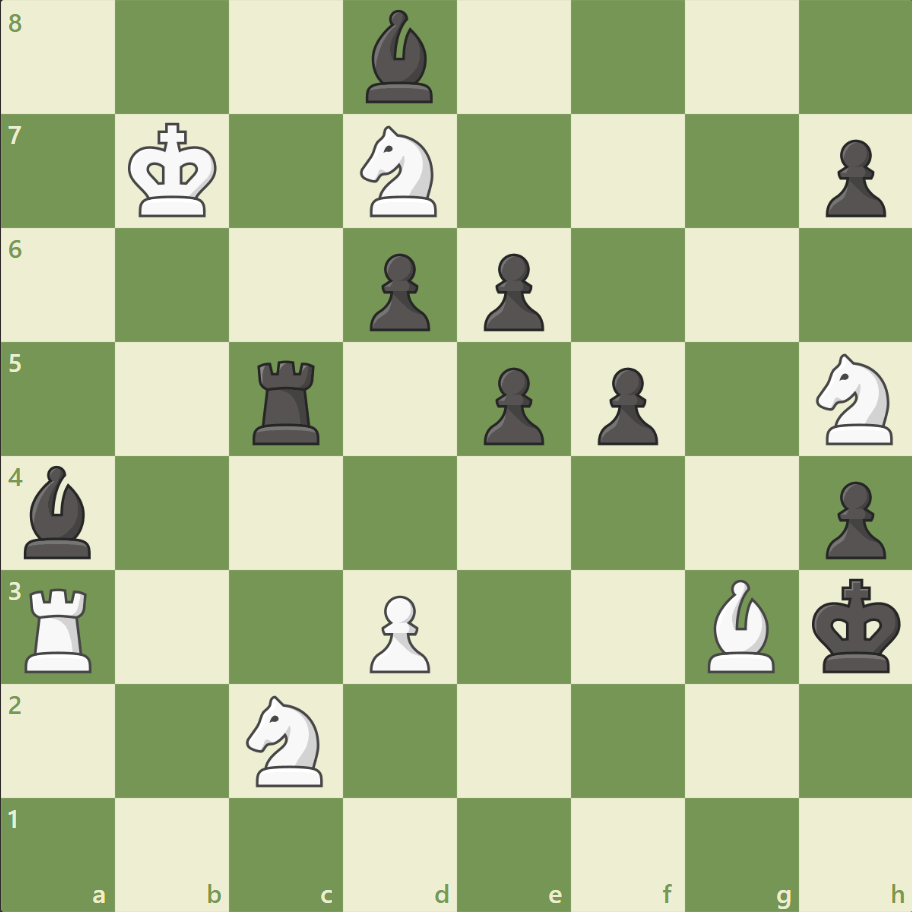B: (698, 574, 782, 676)
K: (124, 117, 224, 225)
N: (351, 121, 449, 223), (238, 688, 335, 791), (806, 348, 903, 450)
P: (361, 586, 435, 677)
R: (19, 579, 102, 676)
b: (358, 6, 442, 109), (17, 460, 101, 563)
k: (806, 571, 906, 679)
p: (474, 246, 549, 337), (474, 359, 549, 450), (815, 132, 889, 223), (361, 246, 435, 337), (588, 359, 662, 450), (815, 473, 889, 564)
r: (246, 352, 329, 449)
